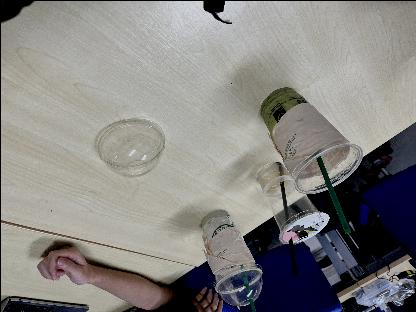Others: (256, 81, 364, 195), (190, 209, 260, 296), (258, 163, 330, 243), (94, 118, 164, 178), (315, 153, 352, 235), (277, 162, 298, 276), (240, 268, 256, 312)
